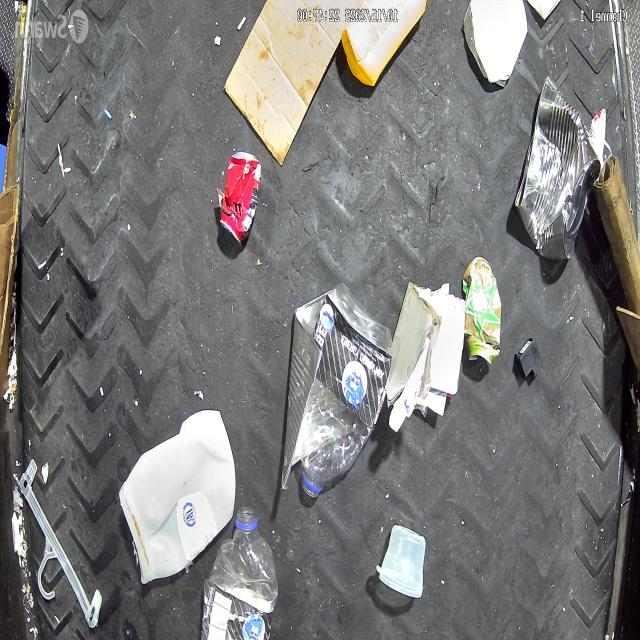can: (514, 74, 601, 260), (462, 256, 502, 366), (220, 152, 262, 246)
milk_jug: (118, 412, 236, 585)
non_white_jug: (341, 0, 428, 87)
plastic_bottle: (300, 284, 396, 498), (207, 506, 279, 638)
